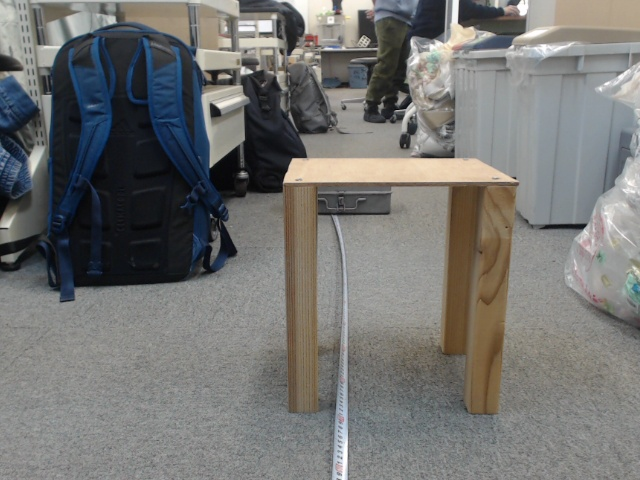desk: (291, 124, 524, 403)
